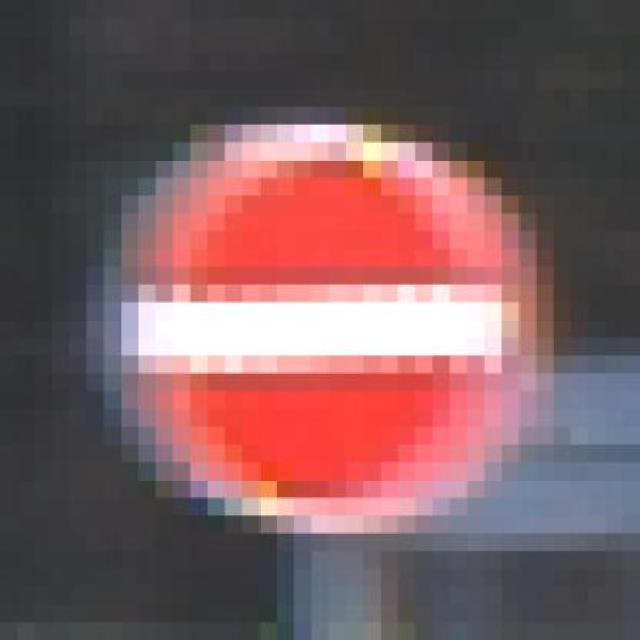B2: (113, 112, 542, 526)
